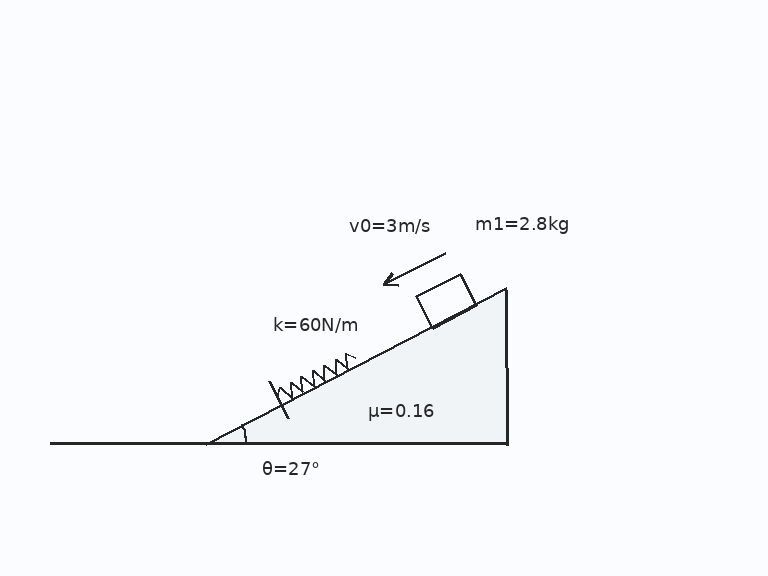block: (414, 272, 478, 330)
ramp: (204, 288, 508, 445)
spring: (275, 352, 357, 399)
